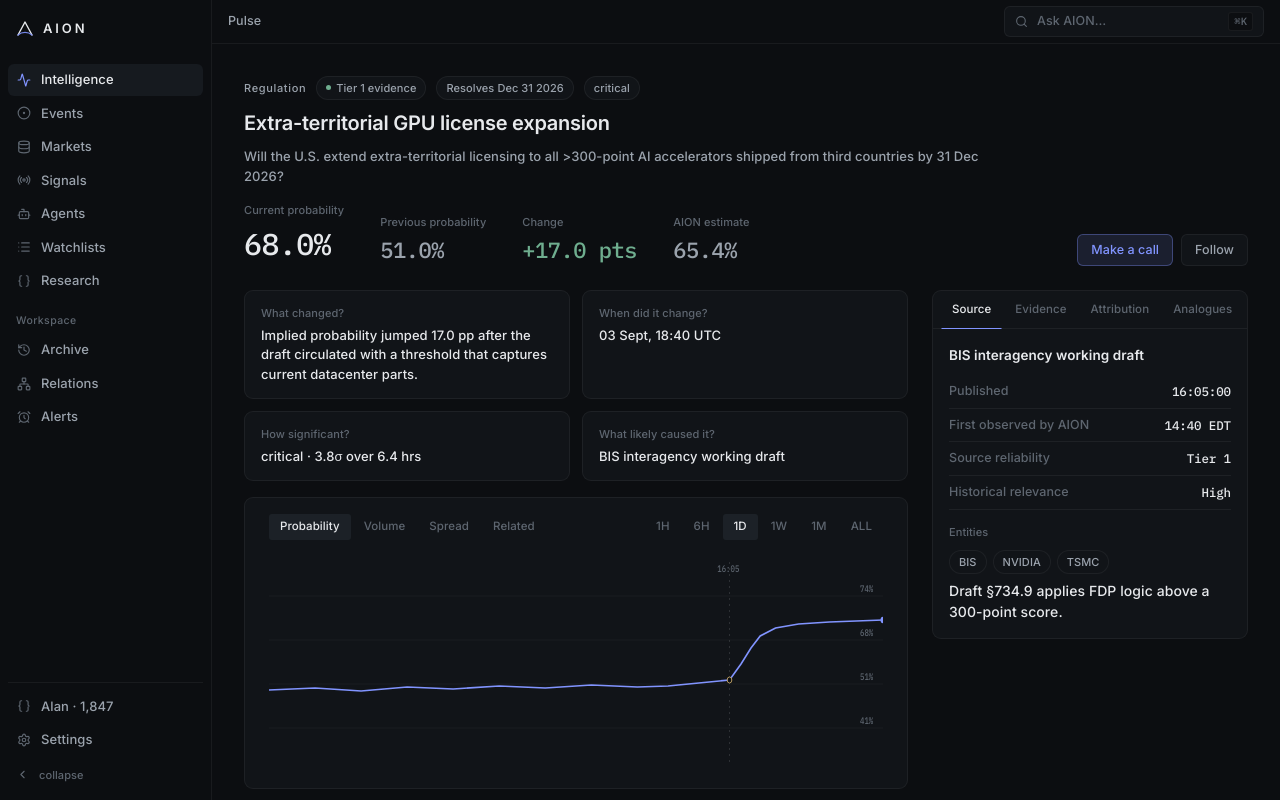
Test: EventIntelligenceView › toggles the watchlist from the intelligence view
Click the button "Follow" at (1215,250), box [1181, 234, 1248, 266]
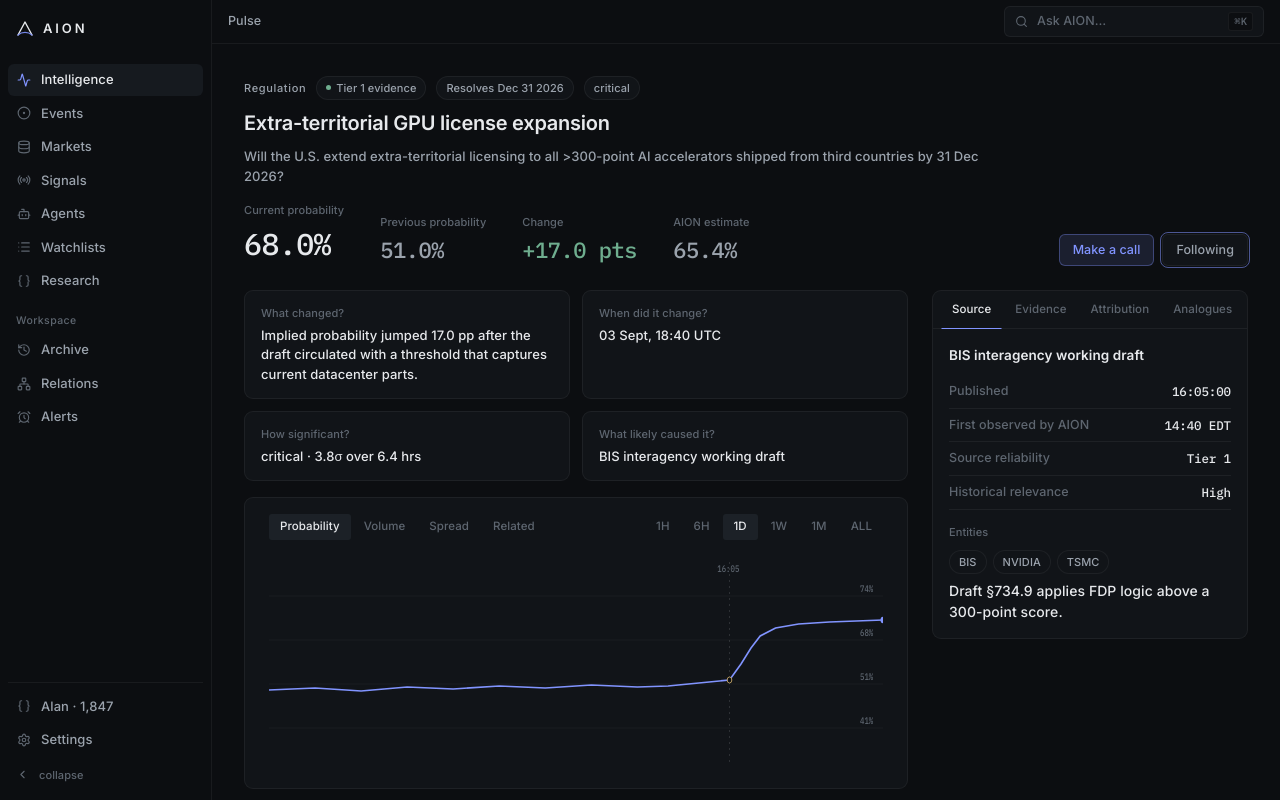
Check: the button "Following" is shown, box [1162, 234, 1248, 266]
